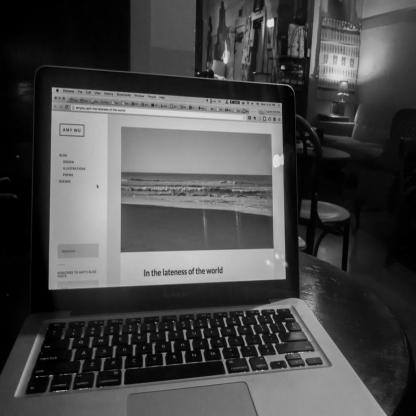board: (0, 68, 388, 416)
